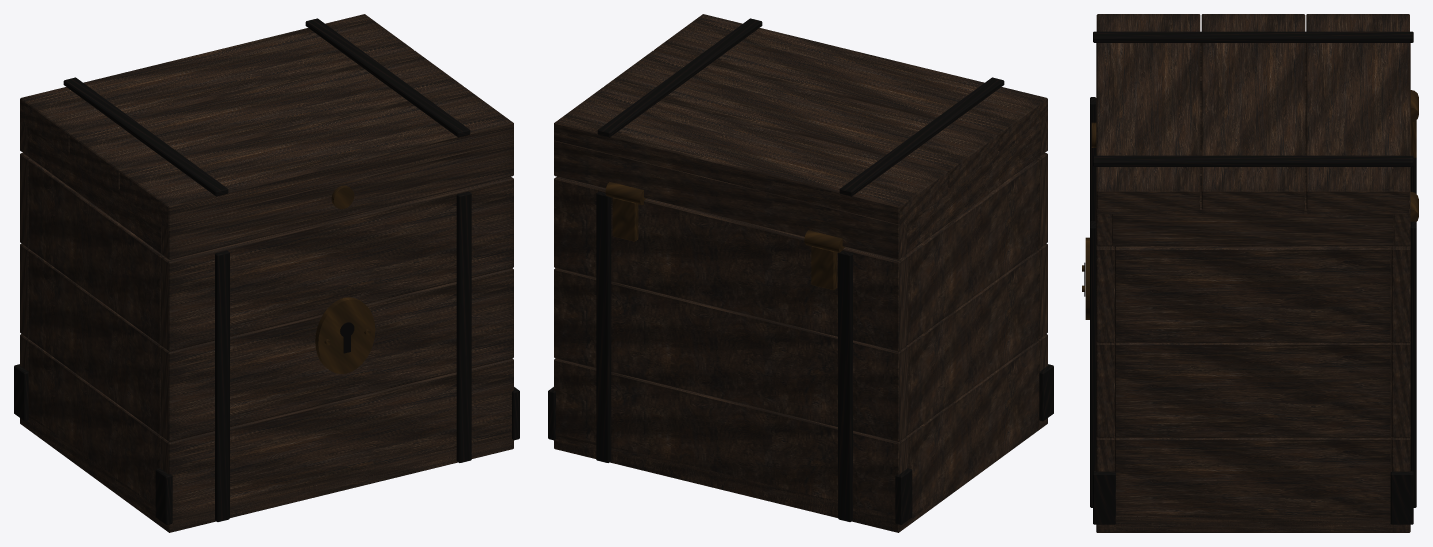
The model's file is antique_lockbox.glb.
3 renders of one model, left to right at view 1: azimuth 30°, elevation 25°; view 2: azimuth 150°, elevation 25°; view 3: azimuth 270°, elevation 25°, orthographic. The views are drawn at different scales.
Visible parts, largest first — view 1: ChestFrontBoard2, ChestFrontBoard0, ChestFrontBoard1, ChestLidBoard2, ChestLidBoard1, ChestLidBoard0, LidFrontRail, ChestLeftBoard2, ChestLeftBoard1, ChestLeftBoard0, ChestFloor, LidLeftRail (+9 smaller); view 2: ChestRearBoard1, ChestRearBoard0, ChestRearBoard2, ChestLidBoard0, ChestLidBoard1, ChestLidBoard2, ChestLeftBoard2, LidRearRail, ChestLeftBoard1, ChestLeftBoard0, ChestFloor, LidLeftRail (+12 smaller); view 3: ChestRightBoard2, ChestRightBoard1, ChestRightBoard0, ChestLidBoard2, ChestLidBoard1, ChestLidBoard0, LidRightRail, ChestFloor, LidIronBand0.14, LidIronBand-0.14, ChestRearBoard2, ChestRearBoard1 (+12 smaller).
Part boxes in pixels (box(x1,y1,x2,y2)): ChestFrontBoard2: box(160, 176, 513, 351); ChestFrontBoard0: box(160, 358, 513, 531); ChestFrontBoard1: box(160, 268, 513, 441); ChestLidBoard2: box(120, 87, 513, 228); ChestLidBoard1: box(70, 50, 463, 191); ChestLidBoard0: box(20, 14, 413, 155); LidFrontRail: box(161, 140, 513, 259); ChestLeftBoard2: box(28, 159, 163, 344); ChestLeftBoard1: box(28, 250, 161, 435); ChestLeftBoard0: box(28, 340, 161, 521); ChestFloor: box(20, 414, 513, 532); LidLeftRail: box(27, 122, 161, 253); ChestRearBoard1: box(554, 268, 907, 441); ChestRearBoard0: box(554, 358, 907, 531); ChestRearBoard2: box(554, 176, 907, 351); ChestLidBoard0: box(554, 87, 947, 228); ChestLidBoard1: box(604, 50, 997, 191); ChestLidBoard2: box(654, 14, 1047, 155); ChestLeftBoard2: box(904, 159, 1039, 344); LidRearRail: box(554, 140, 906, 259); ChestLeftBoard1: box(906, 250, 1039, 435); ChestLeftBoard0: box(906, 340, 1039, 514); ChestFloor: box(554, 418, 1047, 532); LidLeftRail: box(906, 122, 1040, 253); ChestRightBoard2: box(1115, 246, 1391, 342); ChestRightBoard1: box(1115, 342, 1391, 437); ChestRightBoard0: box(1115, 437, 1391, 531); ChestLidBoard2: box(1096, 14, 1200, 214); ChestLidBoard1: box(1201, 14, 1305, 214); ChestLidBoard0: box(1306, 14, 1409, 214); LidRightRail: box(1112, 202, 1394, 246); ChestFloor: box(1096, 515, 1410, 532); LidIronBand0.14: box(1093, 155, 1413, 166); LidIronBand-0.14: box(1093, 31, 1413, 42); ChestRearBoard2: box(1391, 245, 1410, 342); ChestRearBoard1: box(1391, 342, 1410, 437).
Size of the model in its own units: 0.41 by 0.367 by 0.3215.
Materials: 4 (3 with a texture image).
